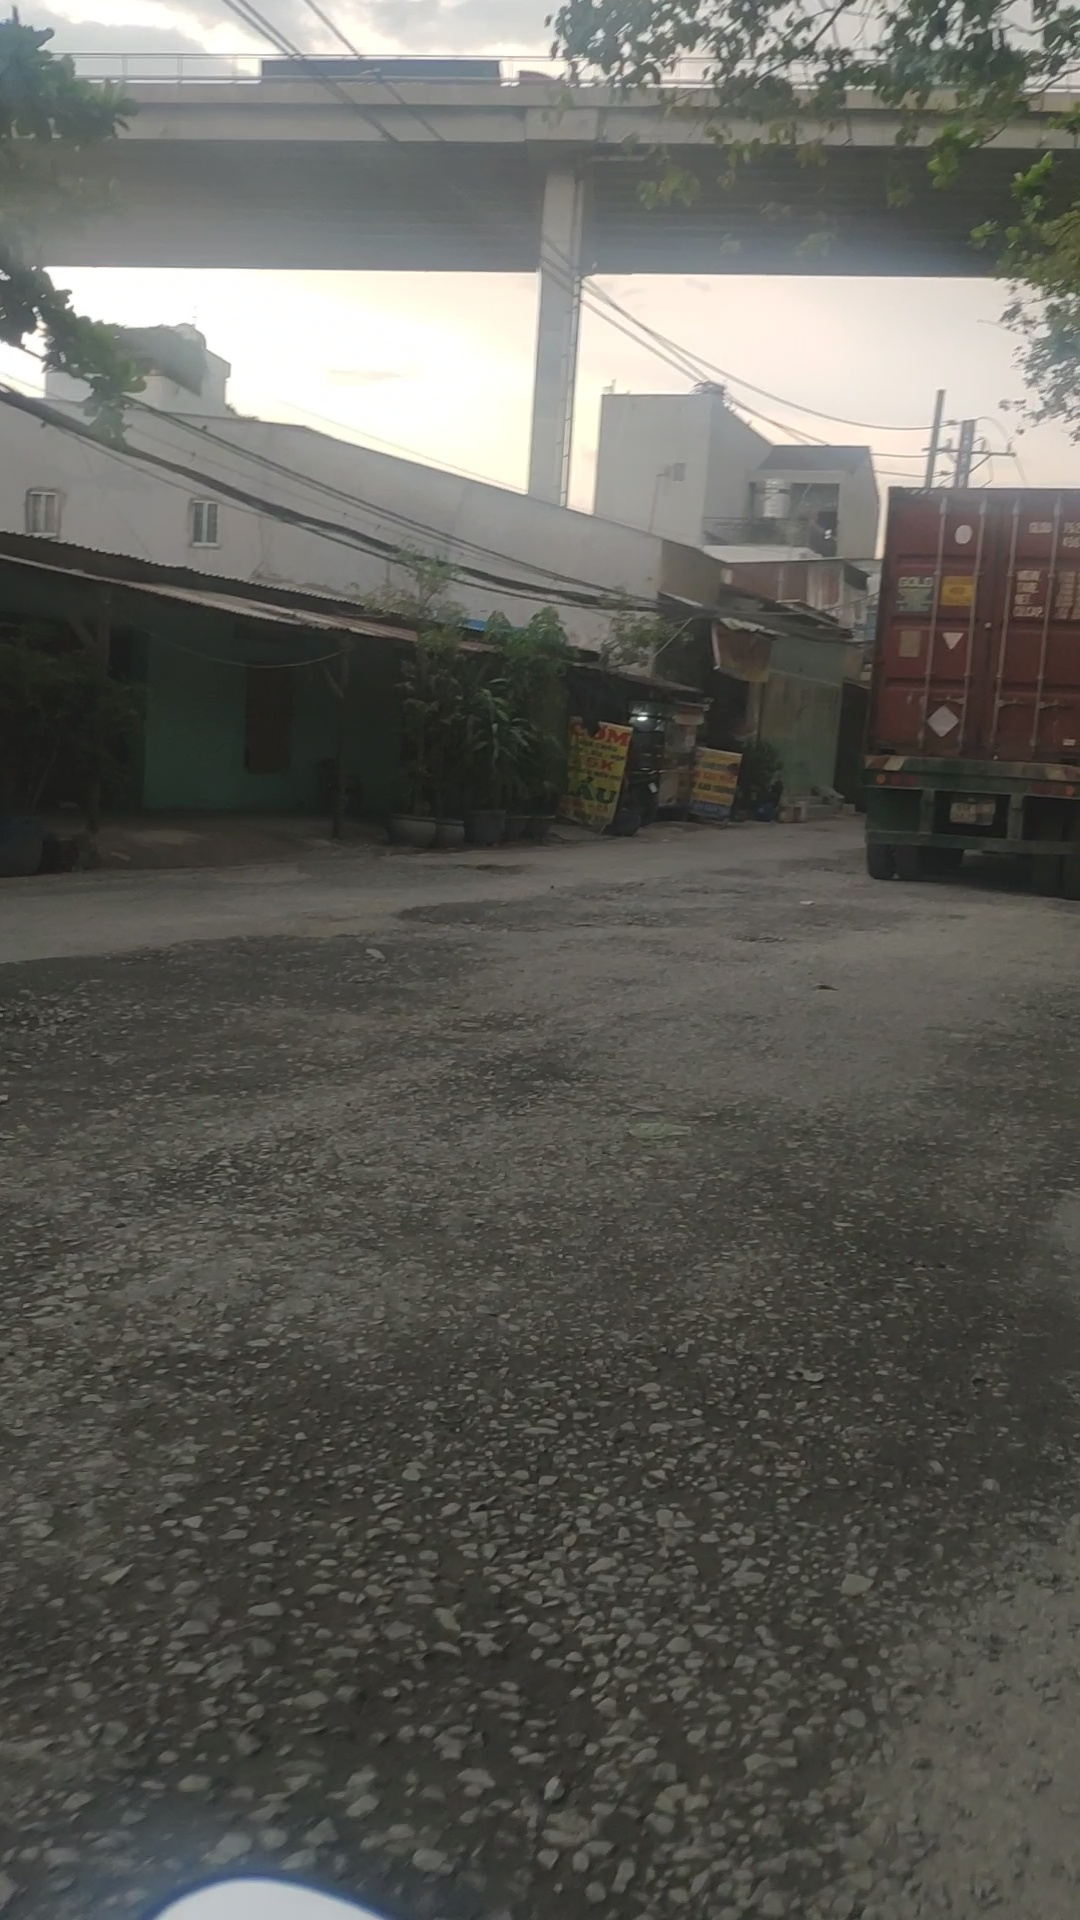hole: (94, 936, 460, 984), (1, 973, 142, 1051), (388, 895, 682, 931), (789, 905, 911, 928), (541, 876, 654, 899), (426, 858, 545, 874), (775, 856, 865, 876), (717, 926, 794, 944), (675, 884, 754, 897)
